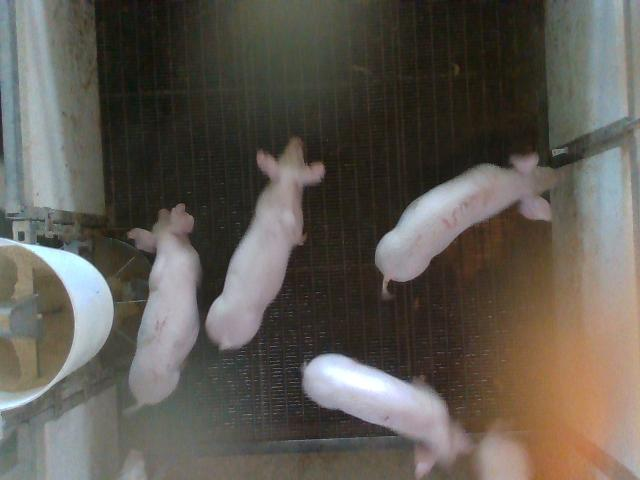pig-3: (375, 154, 558, 296)
